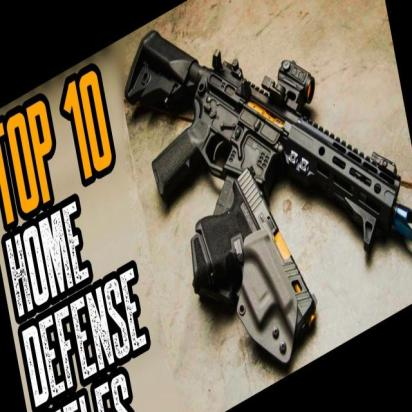Gun: (124, 28, 412, 254)
